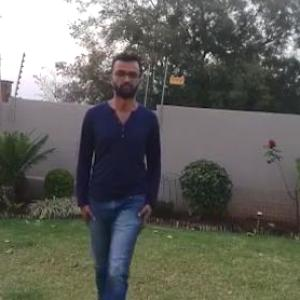follow: (74, 54, 160, 299)
